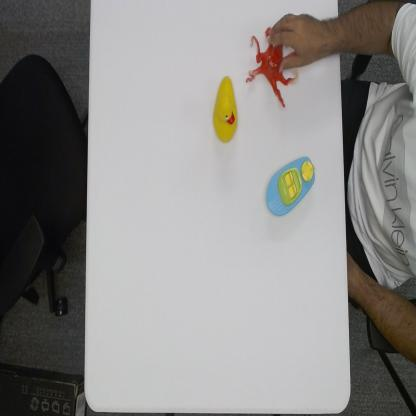Boat: (264, 154, 317, 219)
Duck: (211, 75, 239, 145)
Hand: (266, 6, 334, 68)
Octopus: (245, 22, 300, 112)
